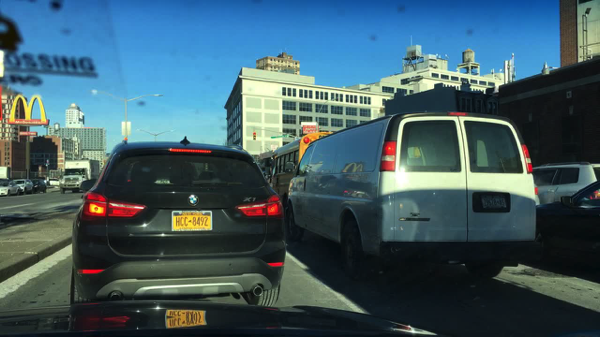bus: (258, 132, 336, 203)
car: (286, 112, 537, 282), (71, 136, 286, 308), (536, 181, 599, 265), (532, 161, 599, 203), (0, 181, 21, 198), (15, 179, 34, 194), (32, 179, 48, 193), (44, 178, 59, 187)
traffic light: (123, 139, 128, 145), (253, 132, 256, 141)
traffic sign: (42, 162, 51, 167), (45, 158, 49, 162)
truck: (59, 157, 100, 194)
